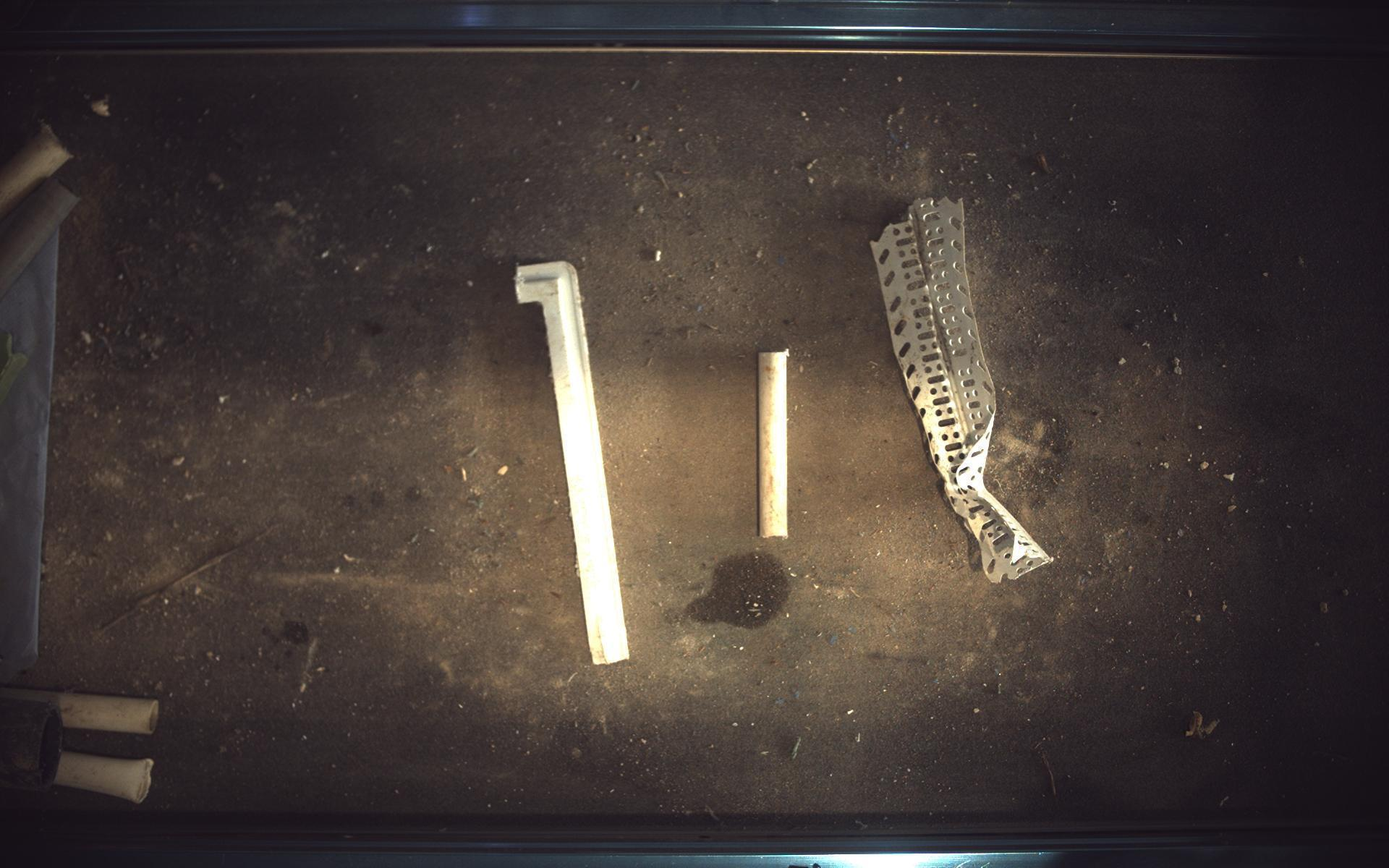pipes: (1, 177, 78, 298), (1, 689, 158, 736), (1, 123, 70, 218), (760, 351, 790, 538), (1, 699, 61, 792), (52, 752, 152, 805)
plastic: (873, 197, 1053, 584), (515, 260, 630, 665)
